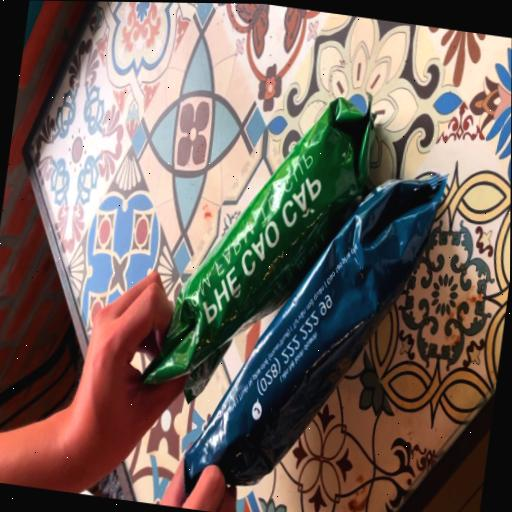cafe_hat: (183, 174, 447, 491)
cafe_xay: (145, 97, 373, 398)
